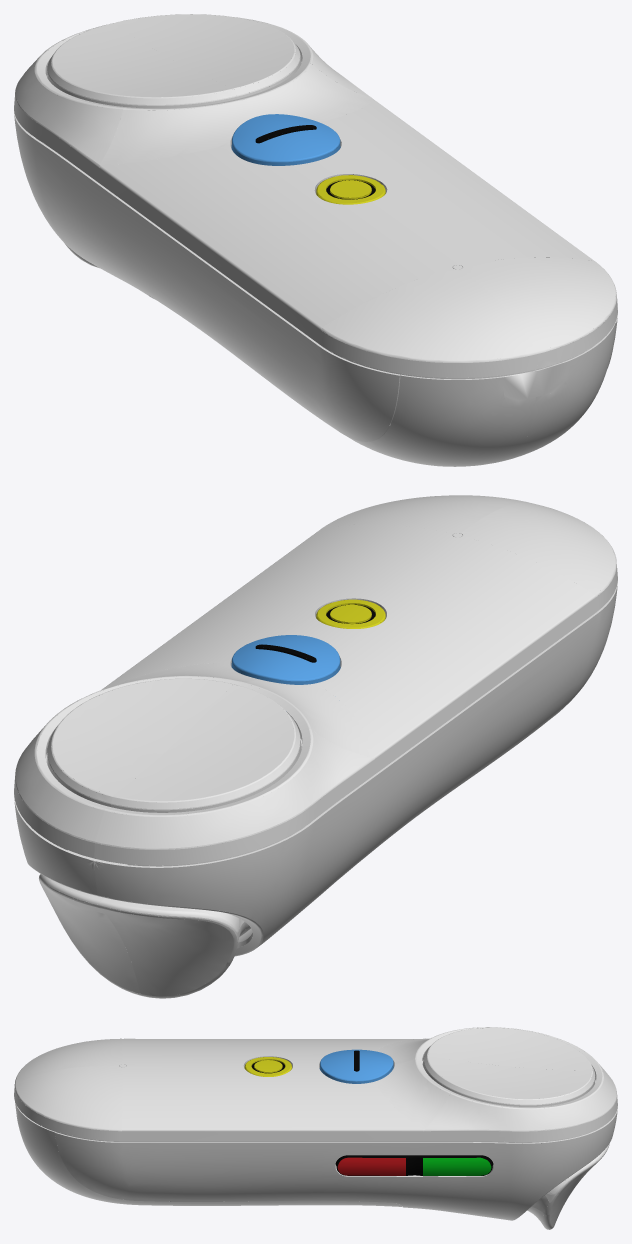
Rendered from 3DOFController.fbx.
The picture shows the model from 3 angles, top to bottom: view 1: azimuth 30°, elevation 25°; view 2: azimuth 150°, elevation 25°; view 3: azimuth 270°, elevation 25°; orthographic projection. The views are drawn at different scales.
Parts seen in each view (by area): view 1: MainUp, MainDown, Touchpad, BatteryCover, App, Home; view 2: MainUp, MainDown, Touchpad, Trigger, App, Home; view 3: MainUp, MainDown, Touchpad, BatteryCover, Volume, App, Trigger, Home.
Boxes of the visible parts, left/top/right/bottom form: MainUp: left=14, top=17, right=617, bottom=379; MainDown: left=14, top=89, right=617, bottom=441; Touchpad: left=45, top=14, right=305, bottom=108; BatteryCover: left=347, top=288, right=615, bottom=466; App: left=231, top=114, right=340, bottom=185; Home: left=316, top=175, right=385, bottom=204; MainUp: left=14, top=495, right=617, bottom=866; MainDown: left=14, top=581, right=617, bottom=956; Touchpad: left=46, top=678, right=302, bottom=812; Trigger: left=39, top=874, right=250, bottom=998; App: left=231, top=635, right=340, bottom=684; Home: left=316, top=599, right=385, bottom=628; MainUp: left=14, top=1027, right=617, bottom=1142; MainDown: left=55, top=1064, right=617, bottom=1220; Touchpad: left=422, top=1027, right=595, bottom=1106; BatteryCover: left=15, top=1102, right=402, bottom=1206; Volume: left=335, top=1155, right=493, bottom=1176; App: left=319, top=1049, right=393, bottom=1083; Trigger: left=527, top=1143, right=609, bottom=1229; Home: left=244, top=1057, right=292, bottom=1076.
Size of the model in its own units: 37.19 by 31.25 by 103.
